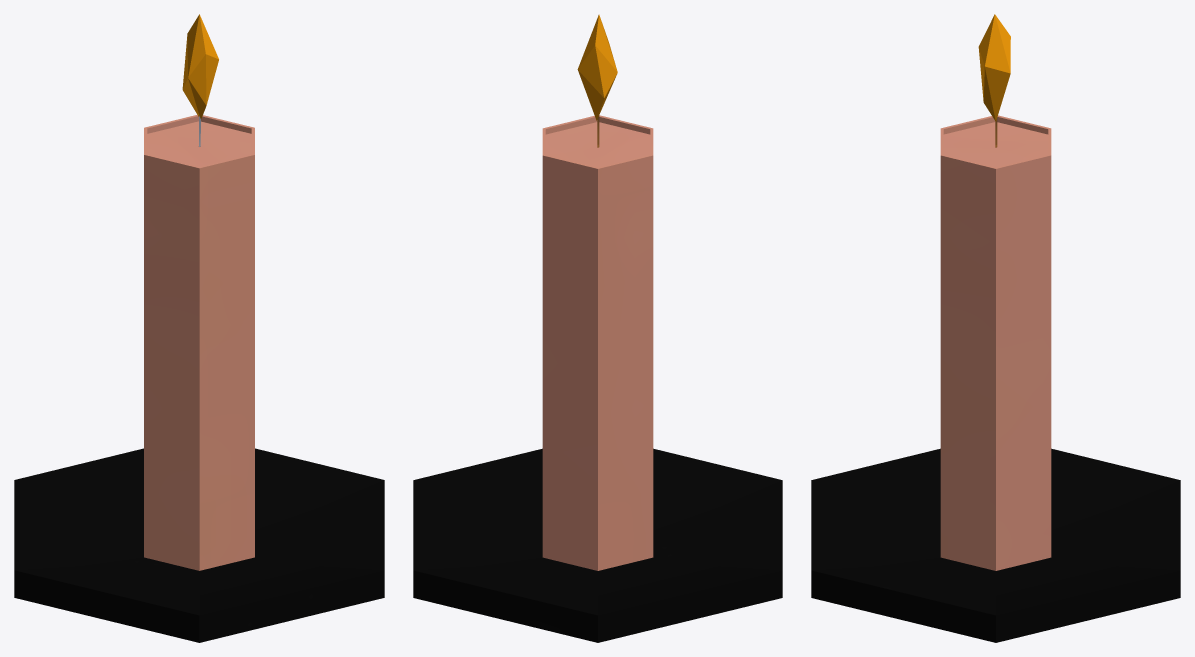
File: Candle_2.fbx
3 views of the same model, side by side, from view 1: azimuth 30°, elevation 25°; view 2: azimuth 150°, elevation 25°; view 3: azimuth 270°, elevation 25° (orthographic).
Parts seen in each view (by area): view 1: Candle 2; view 2: Candle 2; view 3: Candle 2.
Boxes of the visible parts, x1,y1,x2,y2 form: Candle 2: (14, 14, 384, 642); Candle 2: (413, 14, 782, 642); Candle 2: (811, 14, 1180, 642).
Size of the model in its own units: 15.95 by 22.21 by 13.81.
